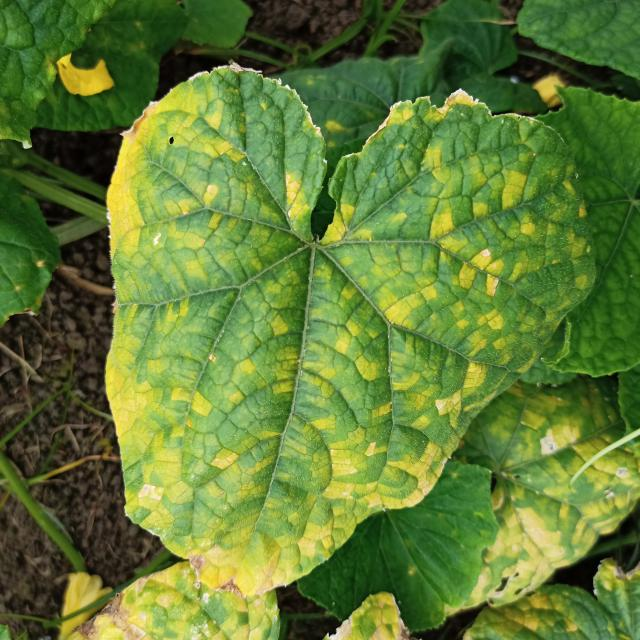disease_cucumber: (105, 74, 578, 588)
